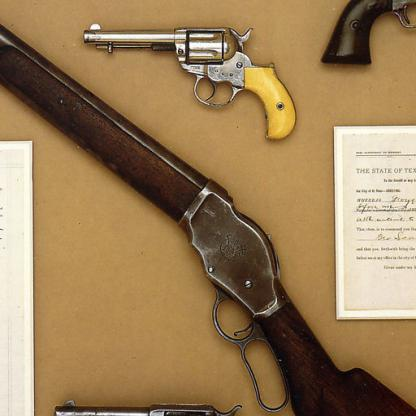gun: (82, 23, 299, 140)
